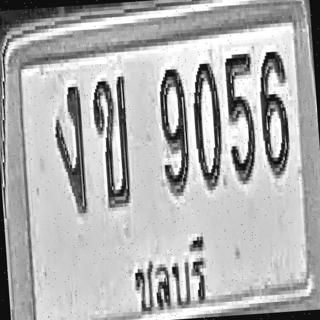A02: (90, 73, 133, 208)
A07: (51, 83, 88, 214)
N00: (190, 59, 225, 190)
N05: (222, 50, 259, 181)
N06: (257, 48, 292, 176)
N09: (156, 67, 191, 195)
P13: (120, 223, 212, 320)
